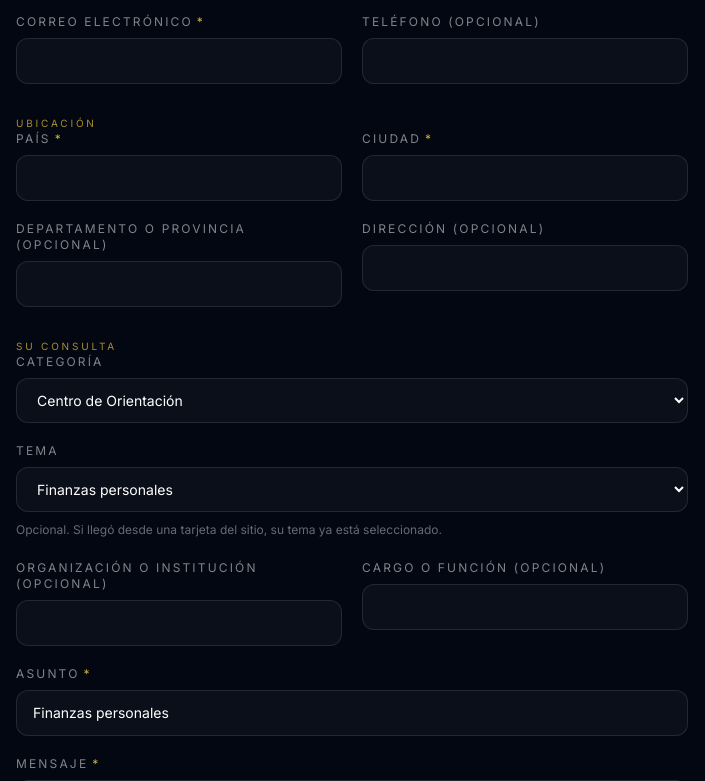
Test: the topic field follows the category › drops a topic that the new category does not offer
(page scrolled)
Expected: the dropdown labelled "Tema" shows "Finanzas personales", [16,467,688,512]
Select "Apoyo al proyecto" in the dropdown labelled "Categoría" at (352, 400), box [16,378,688,423]
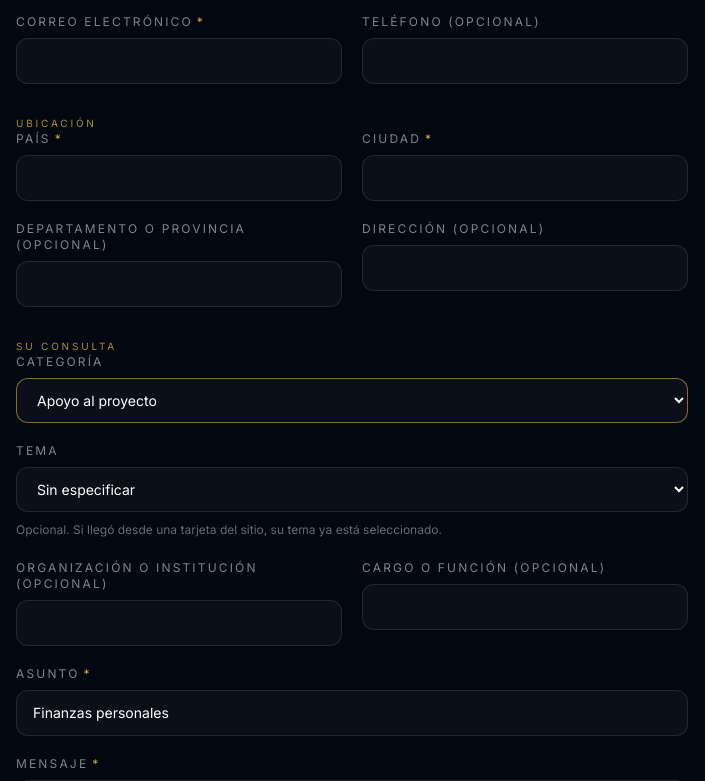
Expected: the dropdown labelled "Tema" shows "Sin especificar", [16,467,688,512]
